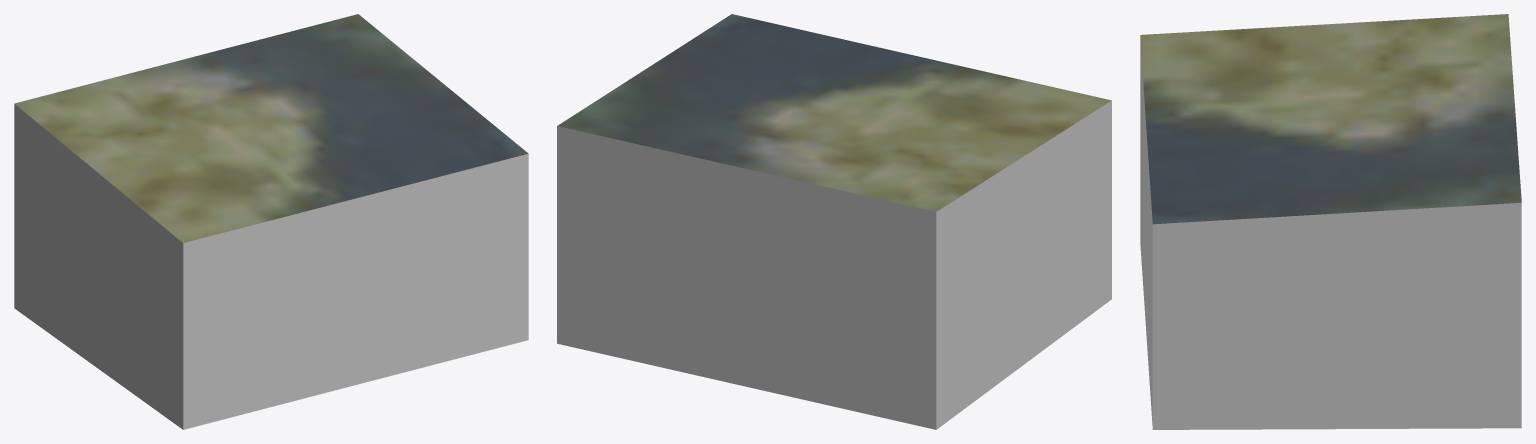
The model's file is DEBW_0010007Tx84.gltf.
3 views of the same model, side by side, from view 1: azimuth 30°, elevation 25°; view 2: azimuth 150°, elevation 25°; view 3: azimuth 270°, elevation 25° (orthographic). The views are drawn at different scales.
Parts seen in each view (by area): view 1: Z_UP; view 2: Z_UP; view 3: Z_UP.
Part boxes in pixels (x1=…): Z_UP: x1=14, y1=14, x2=528, y2=429; Z_UP: x1=557, y1=14, x2=1111, y2=429; Z_UP: x1=1140, y1=14, x2=1521, y2=429.
Bounding box in the file's own units: 6.78 × 3.75 × 5.75.
2 materials, 1 textured.
